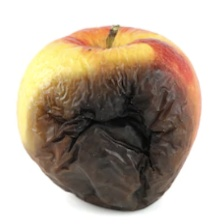apple: (0, 31, 197, 211)
